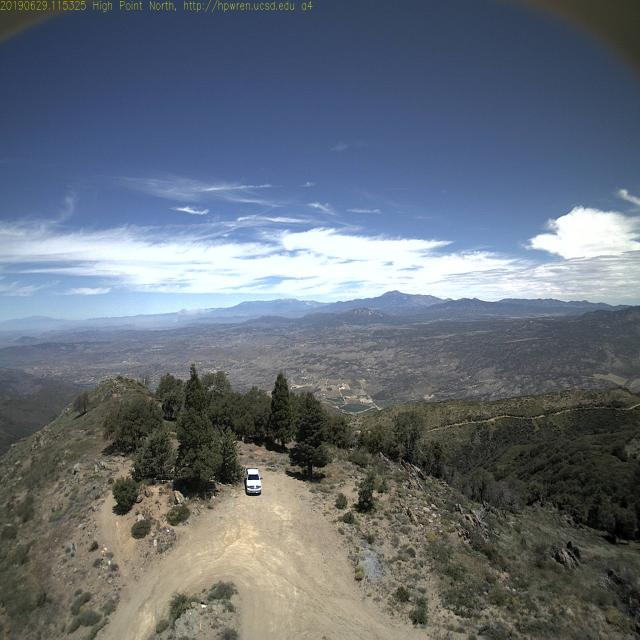smoke: (168, 300, 223, 332)
